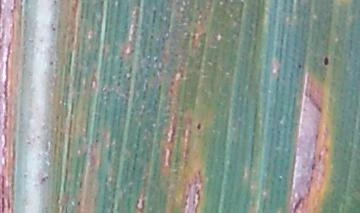tarspot: (321, 56, 331, 68), (196, 121, 204, 132), (79, 180, 84, 189), (93, 138, 99, 145), (298, 62, 303, 70), (76, 200, 82, 206)
